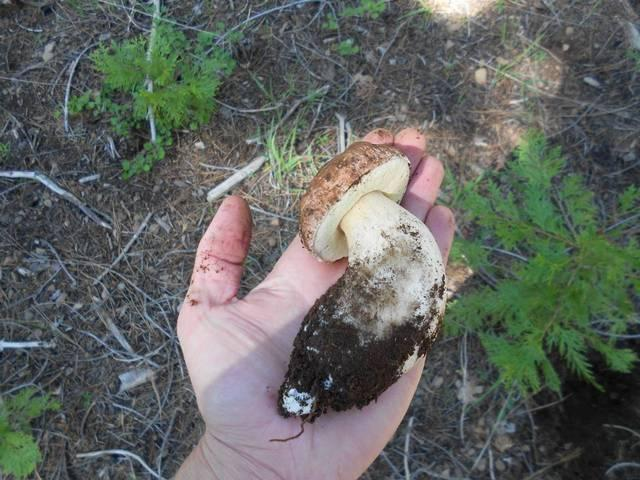edible_mushroom: (276, 139, 447, 421)
